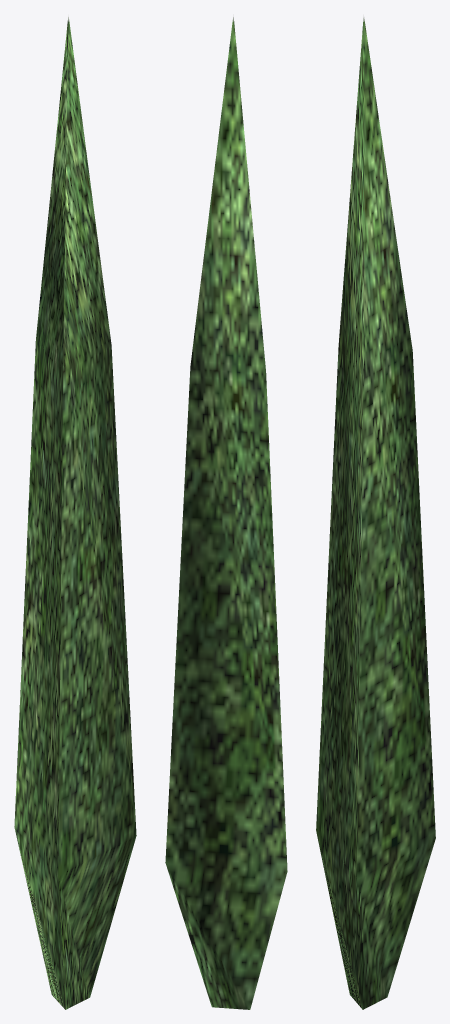
File: wrld_cypress_la.glb
3 renders of one model, left to right at view 1: azimuth 30°, elevation 25°; view 2: azimuth 210°, elevation 25°; view 3: azimuth 270°, elevation 25°, orthographic.
Parts seen in each view (by area): view 1: wrld_cypress_la; view 2: wrld_cypress_la; view 3: wrld_cypress_la.
Part boxes in pixels (x1=…): wrld_cypress_la: x1=14, y1=14, x2=136, y2=1009; wrld_cypress_la: x1=165, y1=14, x2=287, y2=1009; wrld_cypress_la: x1=316, y1=14, x2=435, y2=1009.
Bounding box in the file's own units: 1.34 × 12.81 × 1.41.
1 material, 1 textured.
